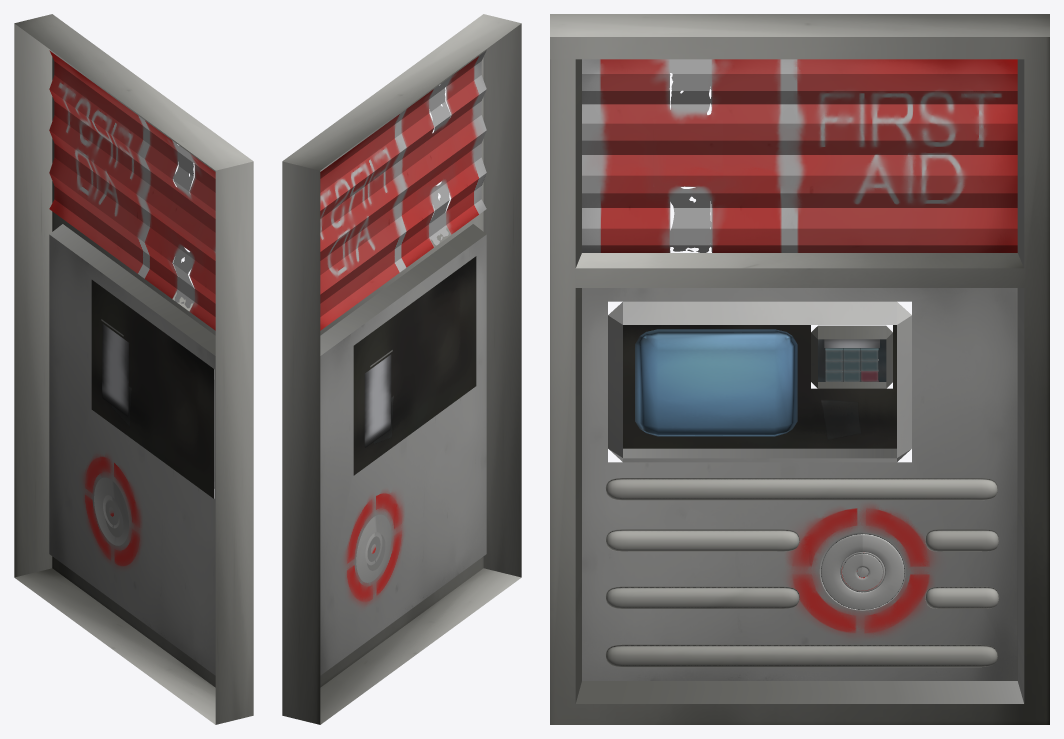
The model's file is HealthStation.fbx.
3 views of the same model, side by side, from view 1: azimuth 30°, elevation 25°; view 2: azimuth 150°, elevation 25°; view 3: azimuth 270°, elevation 25° (orthographic). The views are drawn at different scales.
Visible parts, largest first — view 1: Cube; view 2: Cube; view 3: Cube.
Boxes of the visible parts, <box> form: Cube: <box>14,14,253,724</box>; Cube: <box>282,14,521,724</box>; Cube: <box>550,14,1049,724</box>.
Size of the model in its own units: 21.56 by 299 by 197.
